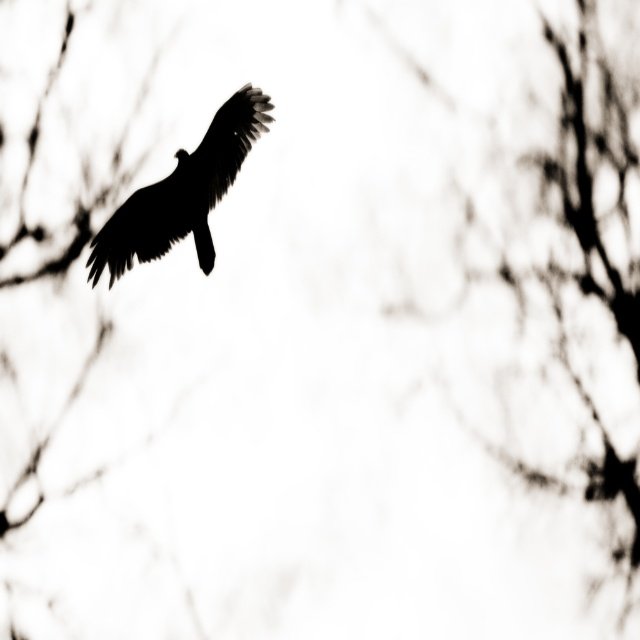Eagle: (86, 79, 278, 291)
